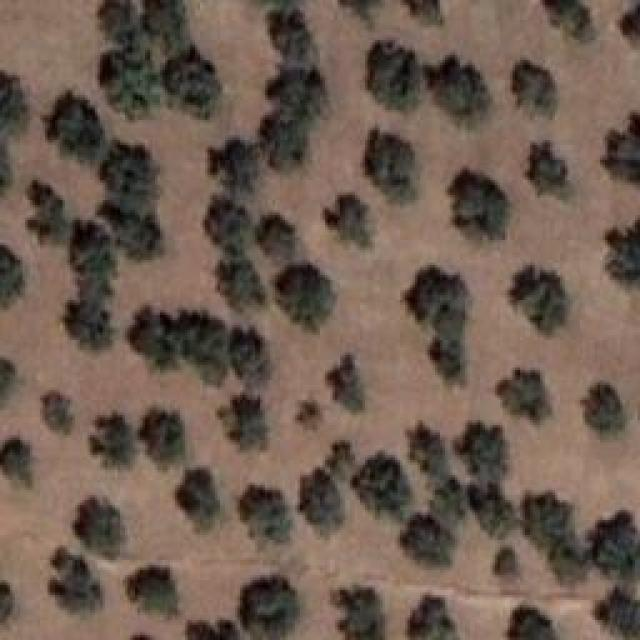Tree: (525, 493, 590, 585), (423, 55, 491, 127), (45, 92, 108, 162), (448, 168, 508, 240), (163, 45, 222, 118), (100, 195, 163, 261), (275, 263, 335, 331), (353, 453, 413, 521), (100, 50, 160, 118), (405, 265, 470, 327), (510, 265, 569, 333), (365, 128, 418, 203), (175, 310, 229, 382), (587, 510, 640, 583), (255, 105, 316, 168), (368, 42, 422, 112), (240, 577, 300, 640), (98, 140, 161, 197), (50, 548, 104, 612), (457, 423, 512, 485), (240, 485, 294, 545), (65, 295, 118, 355), (75, 498, 125, 560), (495, 367, 551, 422), (125, 305, 179, 362), (300, 468, 345, 536), (265, 63, 326, 113), (268, 5, 320, 62), (205, 195, 256, 253), (470, 477, 519, 535), (175, 468, 220, 531), (213, 255, 266, 308), (332, 587, 385, 640), (90, 413, 139, 470), (28, 180, 72, 243), (140, 408, 186, 468), (145, 0, 193, 57), (408, 423, 452, 485), (602, 113, 640, 183), (210, 138, 258, 193), (400, 515, 451, 566), (218, 398, 264, 452), (580, 384, 626, 438), (127, 565, 175, 615), (595, 587, 640, 640), (328, 355, 367, 415), (513, 60, 554, 117), (605, 220, 640, 285), (408, 595, 458, 640), (325, 196, 369, 246), (543, 0, 594, 42), (528, 143, 569, 195), (233, 328, 272, 382), (427, 335, 468, 386), (100, 0, 147, 43), (257, 215, 295, 261), (430, 473, 467, 520), (0, 72, 25, 136), (510, 607, 558, 640), (0, 437, 31, 487), (0, 245, 23, 306), (43, 388, 72, 430), (188, 622, 241, 640), (402, 0, 441, 24), (620, 3, 640, 46), (495, 547, 518, 577), (0, 358, 16, 400), (295, 403, 319, 430)
